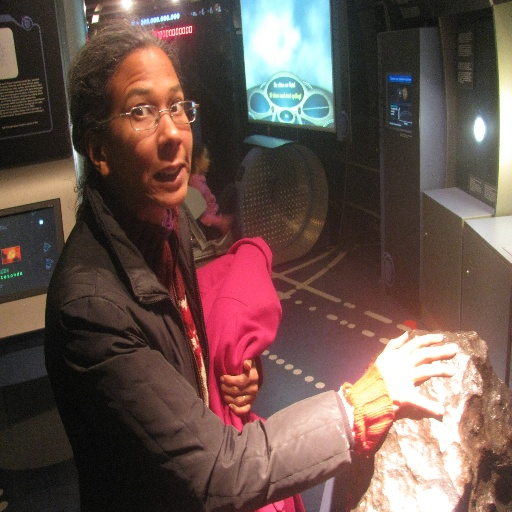hand: (370, 324, 459, 416), (219, 357, 258, 416), (220, 214, 234, 232)
